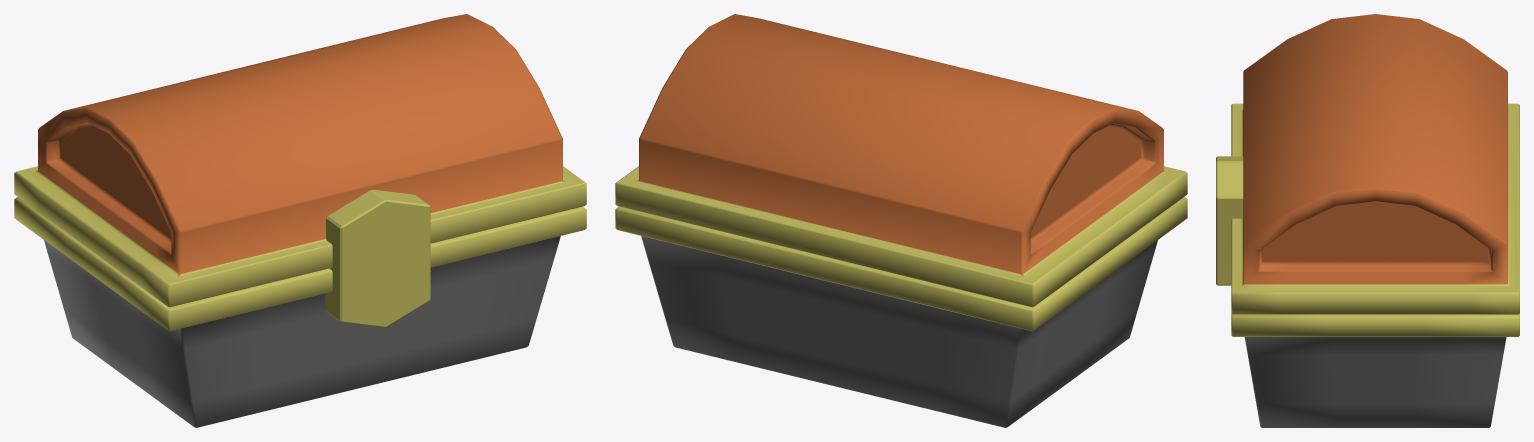
Rendered from AS_Chests.fbx.
3 renders of one model, left to right at view 1: azimuth 30°, elevation 25°; view 2: azimuth 150°, elevation 25°; view 3: azimuth 270°, elevation 25°, orthographic. The views are drawn at different scales.
Visible parts, largest first — view 1: Cube.014; view 2: Cube.014; view 3: Cube.014.
Boxes of the visible parts, <box> form: Cube.014: <box>14,14,586,427</box>; Cube.014: <box>615,14,1187,427</box>; Cube.014: <box>1216,14,1519,427</box>.
Bounding box in the file's own units: 584 × 361 × 394.
